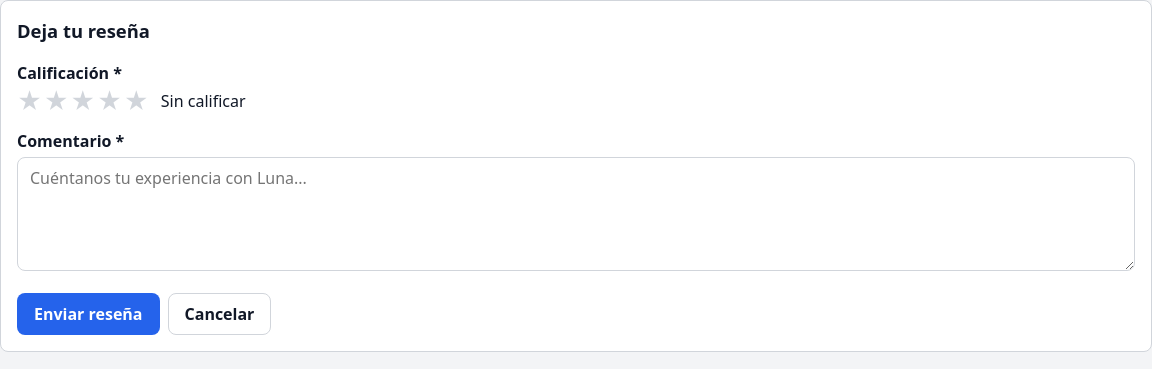
Scenario: ReviewForm › clears the form when cancelling
The width and height of the screenshot is (1152, 369).
Type "Texto" into the text box labelled "Comentario *" at {"x": 576, "y": 214}, box [17,157,1135,271]
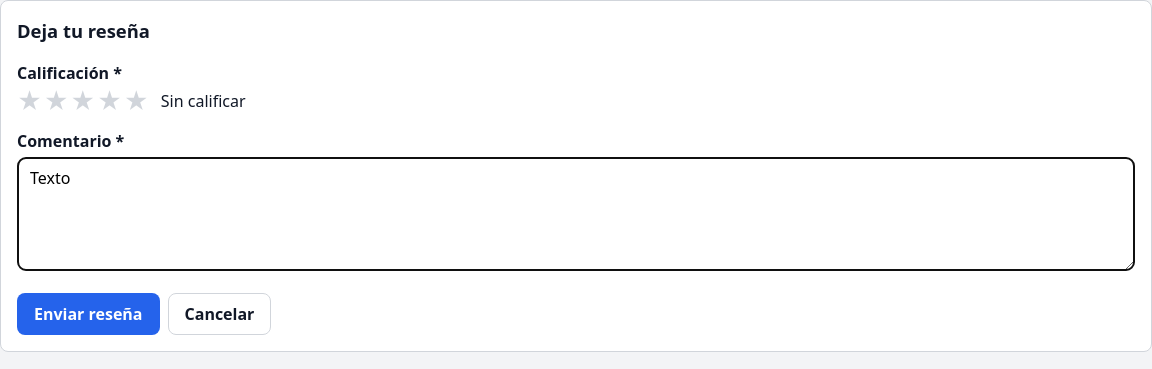
Click the button "Cancelar" at {"x": 219, "y": 314}, box [168,293,271,335]
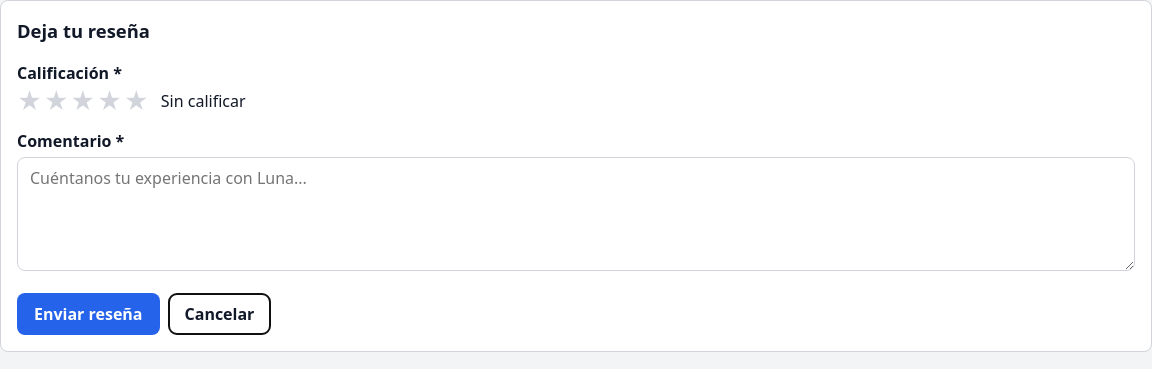
Now the text box labelled "Comentario *" is empty, box [17,157,1135,271]
